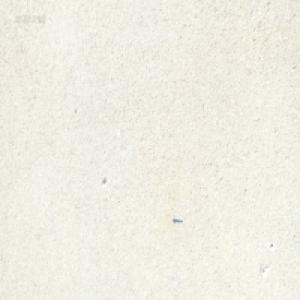Nail: (172, 216, 183, 223)
